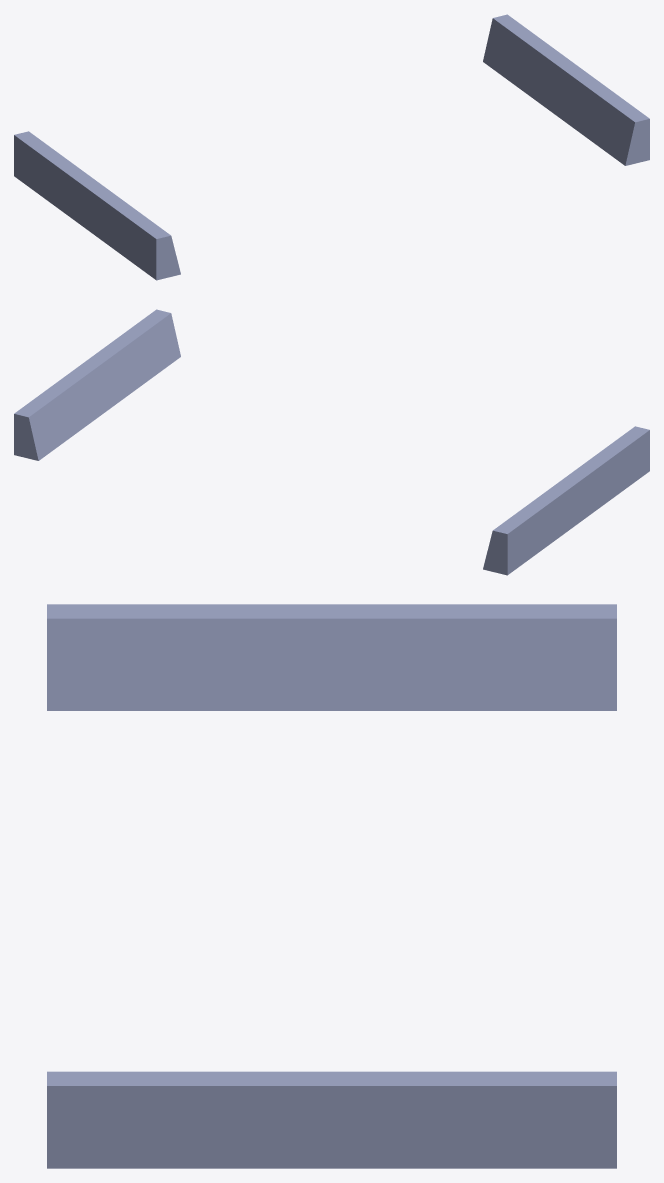
File: road-straight-barrier-half.glb
The picture shows the model from 3 angles, top to bottom: view 1: azimuth 30°, elevation 25°; view 2: azimuth 150°, elevation 25°; view 3: azimuth 270°, elevation 25°; orthographic projection. The views are drawn at different scales.
Parts seen in each view (by area): view 1: road-straight-barrier-half; view 2: road-straight-barrier-half; view 3: road-straight-barrier-half.
Part boxes in pixels (box(x1,y1,x2,y2)): road-straight-barrier-half: box(14, 14, 649, 280); road-straight-barrier-half: box(14, 309, 649, 575); road-straight-barrier-half: box(47, 604, 616, 1168).
Bounding box in the file's own units: 1 × 0.08 × 0.5001.
Materials: 1 (1 with a texture image).
